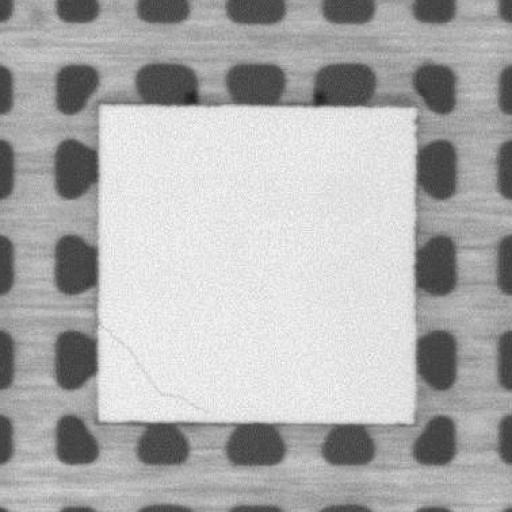DIE_CRACK: (96, 322, 207, 414)
